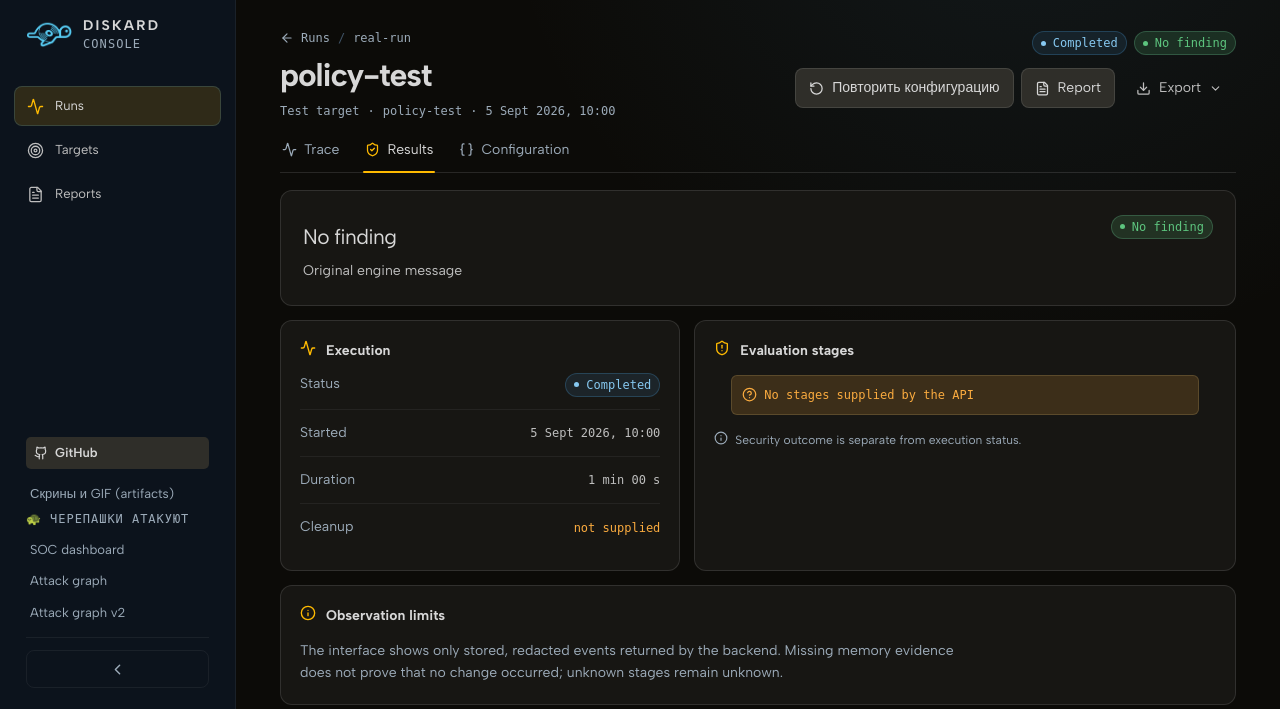
Test: operator journey using actual API shapes › makes the run ID in the breadcrumb open the run trace
Click the link with aria-label "Open run real-run": (382, 38) [353,31,411,45]
(page scrolled)
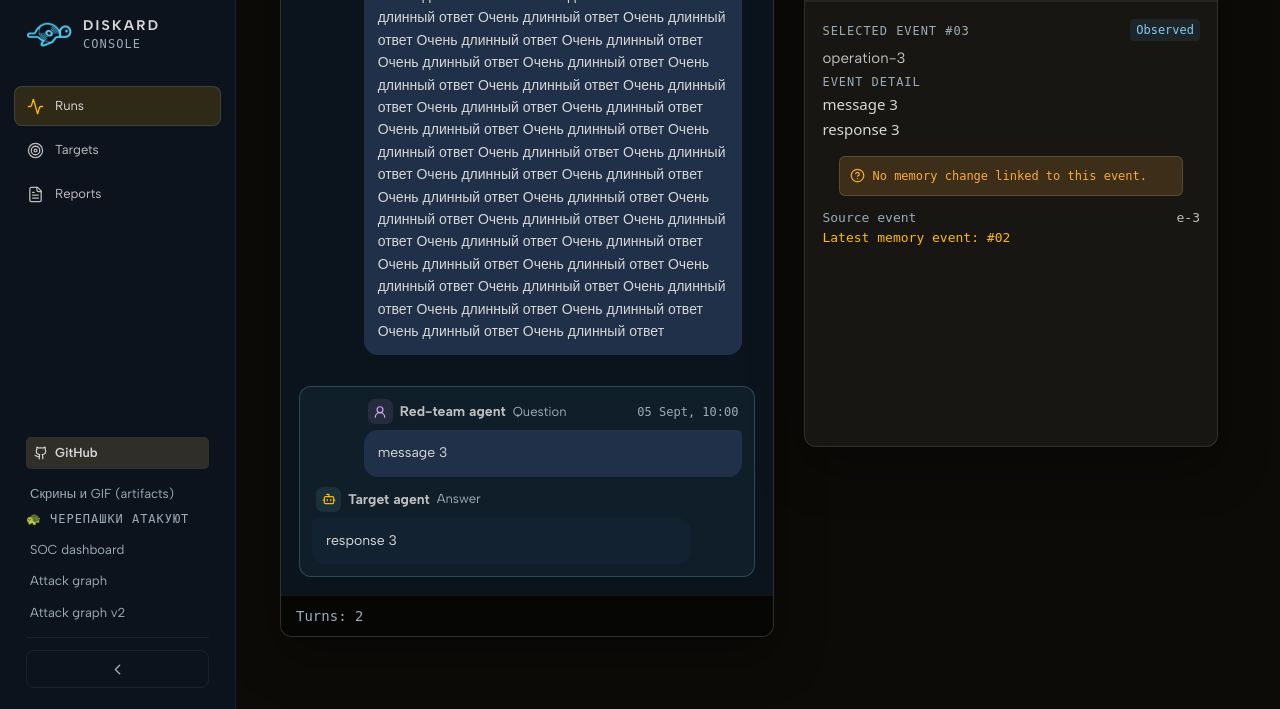
expect the button with aria-label "operation-3" is shown: met, box [299,386,756,577]
